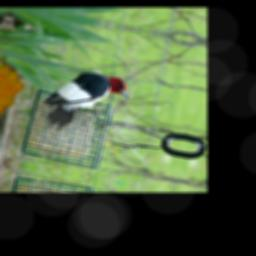Woodpecker: (37, 65, 133, 143)
